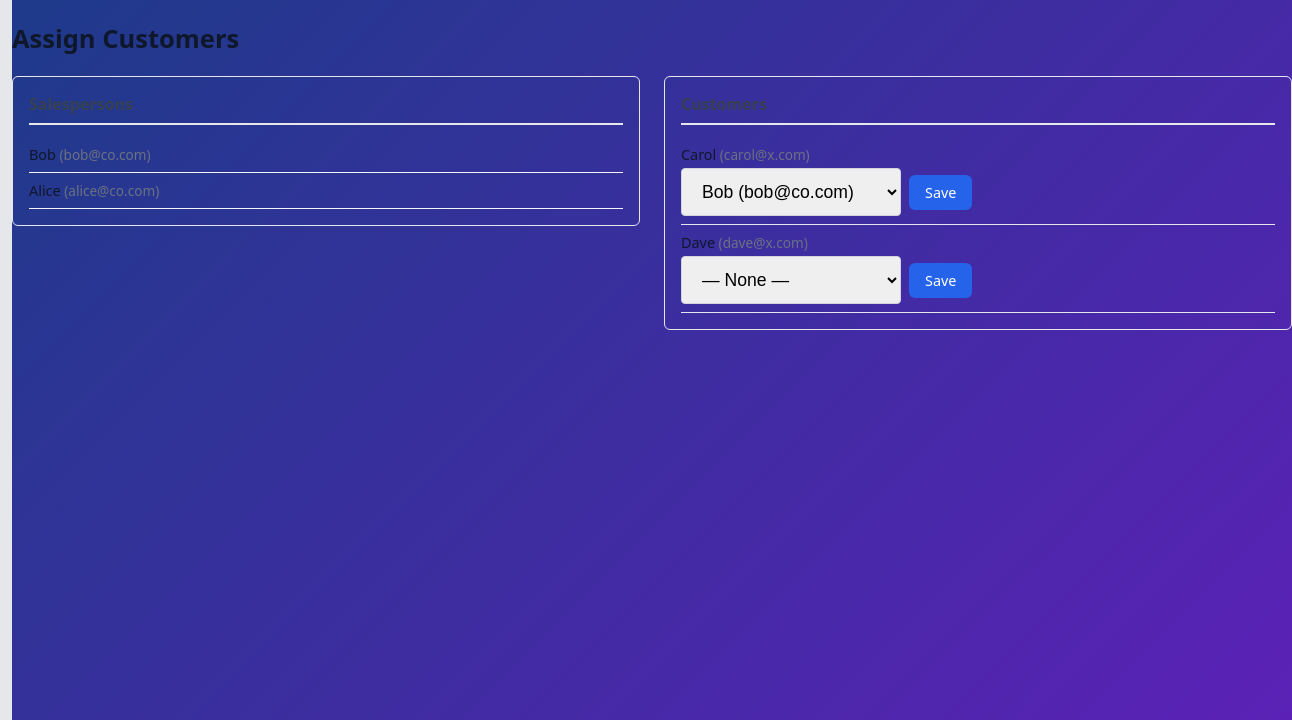
Test: AdminCustomersView › shows save error inline on failure
What coordinates should you click on to do the following:
click the button with class "save-btn" below "(carol@x.com)"
I would click on:
 (941, 192)
Its box is [909,175,972,210].
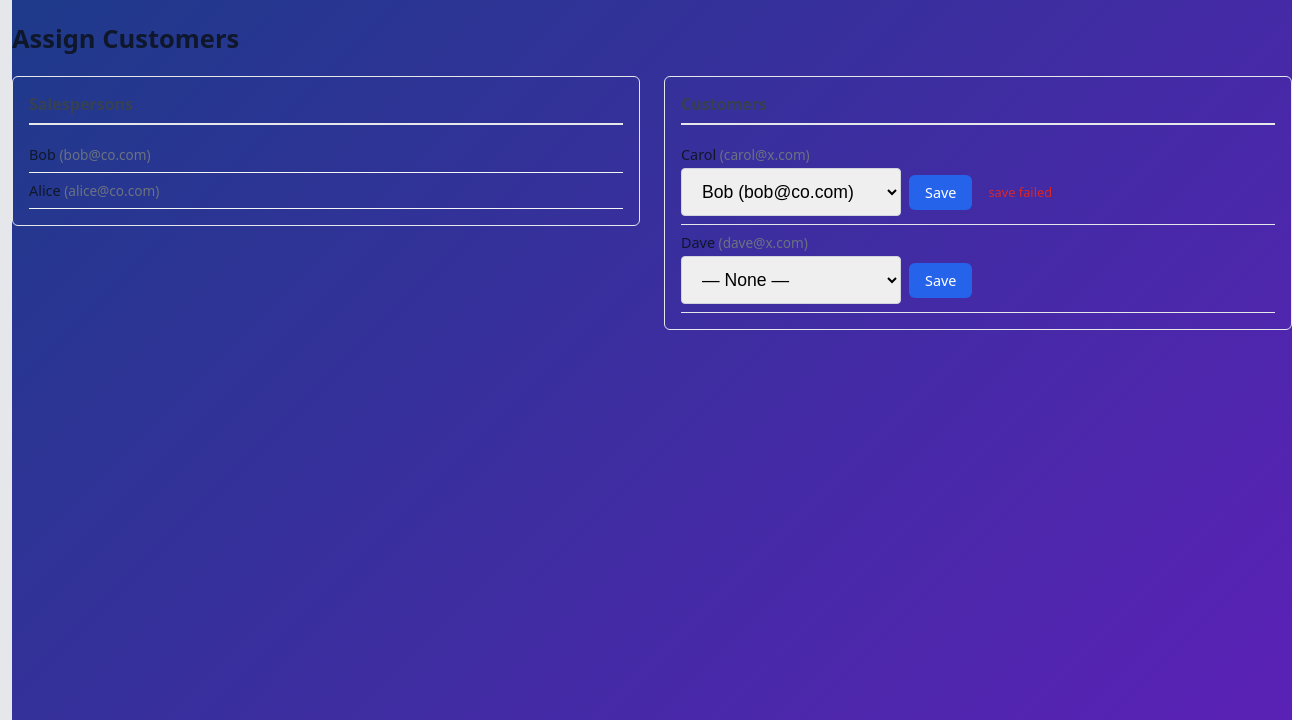
Check: the message with class "save-error" reads "save failed", box [988,183,1052,201]
